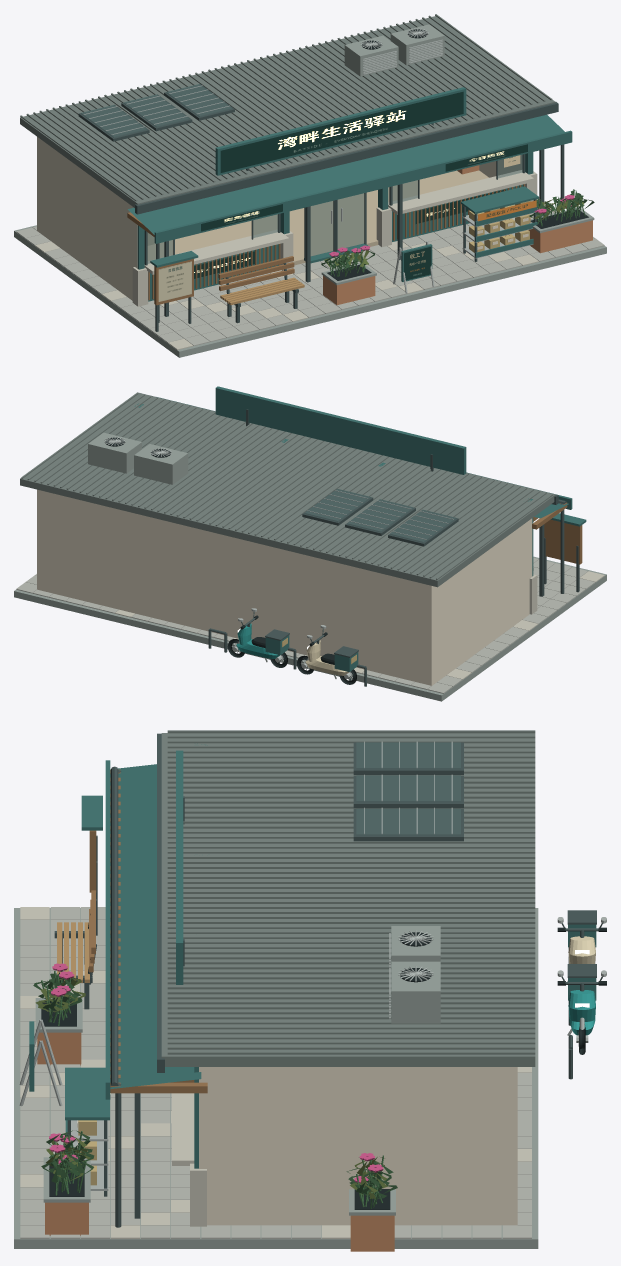
File: life-hub.glb
3 renders of one model, top to bottom at view 1: azimuth 30°, elevation 25°; view 2: azimuth 150°, elevation 25°; view 3: azimuth 270°, elevation 25°, orthographic. The views are drawn at different scales.
Parts seen in each view (by area): view 1: life_hub_hub_roof, life_hub_hub_teal, life_hub_hub_terrazzo, life_hub_hub_trim, life_hub_hub_signs, life_hub_hub_plaster, life_hub_hub_concrete, life_hub_hub_limestone, life_hub_hub_glass, life_hub_hub_interior, life_hub_hub_wood, life_hub_hub_aluminium (+6 smaller); view 2: life_hub_hub_plaster, life_hub_hub_roof, life_hub_hub_teal, life_hub_hub_concrete, life_hub_hub_trim, life_hub_hub_terrazzo, life_hub_hub_glass, life_hub_hub_wood, life_hub_hub_aluminium, life_hub_hub_black, life_hub_hub_limestone, life_hub_hub_bike_teal (+1 smaller); view 3: life_hub_hub_roof, life_hub_hub_plaster, life_hub_hub_terrazzo, life_hub_hub_teal, life_hub_hub_trim, life_hub_hub_concrete, life_hub_hub_glass, life_hub_hub_limestone, life_hub_hub_clay, life_hub_hub_aluminium, life_hub_hub_leaf, life_hub_hub_wood (+5 smaller).
Part boxes in pixels (x1,y1,x2,y2): life_hub_hub_roof: (20,14,555,207); life_hub_hub_teal: (128,87,572,301); life_hub_hub_terrazzo: (16,197,604,345); life_hub_hub_trim: (78,84,564,331); life_hub_hub_signs: (158,91,536,301); life_hub_hub_plaster: (37,137,528,300); life_hub_hub_concrete: (14,24,606,357); life_hub_hub_limestone: (35,170,538,349); life_hub_hub_glass: (81,84,522,263); life_hub_hub_interior: (147,170,488,265); life_hub_hub_wood: (127,184,524,305); life_hub_hub_aluminium: (83,28,535,293); life_hub_hub_plaster: (37,489,532,685); life_hub_hub_roof: (20,392,555,587); life_hub_hub_teal: (134,386,586,672); life_hub_hub_concrete: (14,432,606,701); life_hub_hub_trim: (137,392,579,686); life_hub_hub_terrazzo: (16,557,595,693); life_hub_hub_glass: (304,489,455,542); life_hub_hub_wood: (532,502,582,564); life_hub_hub_aluminium: (104,436,453,680); life_hub_hub_black: (105,437,356,684); life_hub_hub_limestone: (115,567,604,679); life_hub_hub_bike_teal: (236,623,279,658); life_hub_hub_roof: (161,730,535,1066); life_hub_hub_plaster: (77,1067,517,1225); life_hub_hub_terrazzo: (20,907,531,1238); life_hub_hub_teal: (29,743,596,1168); life_hub_hub_trim: (54,733,602,1227); life_hub_hub_concrete: (14,908,538,1248); life_hub_hub_glass: (356,742,460,835); life_hub_hub_limestone: (20,907,531,1238); life_hub_hub_clay: (37,1032,394,1251); life_hub_hub_aluminium: (19,741,606,1190); life_hub_hub_leaf: (33,970,397,1208); life_hub_hub_wood: (89,769,207,1093).
Size of the model in its own units: 13.54 by 4.34 by 9.84.
27 materials, 1 textured.
